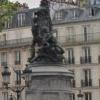Statue: (25, 4, 75, 75)
